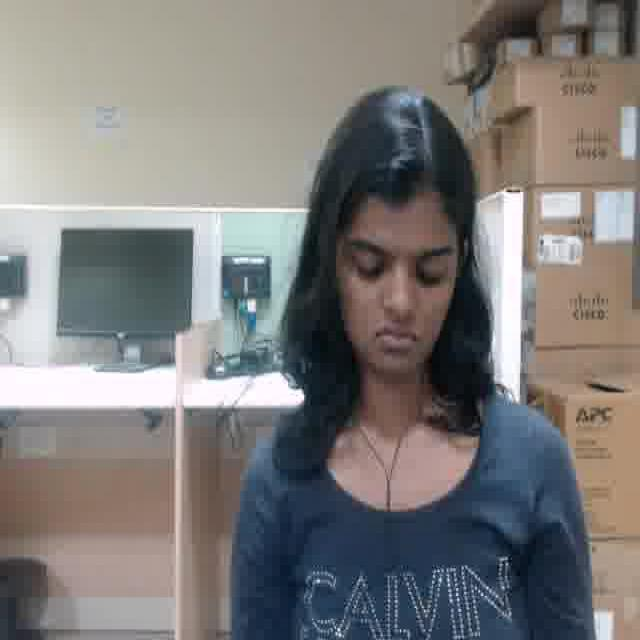Boredom: (340, 192, 452, 377)
